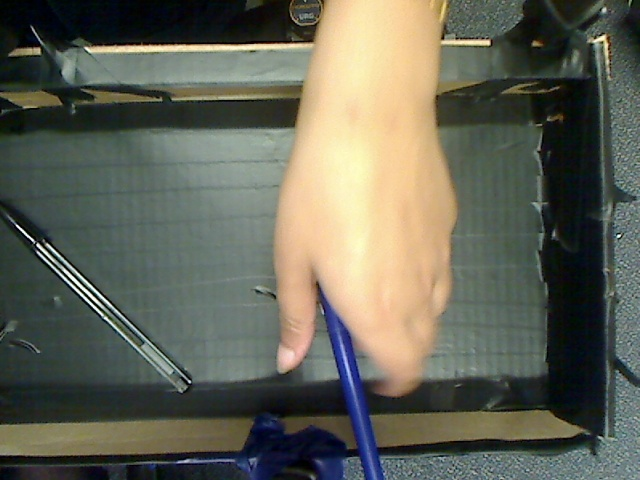pen: (1, 192, 213, 408), (284, 256, 411, 480)
